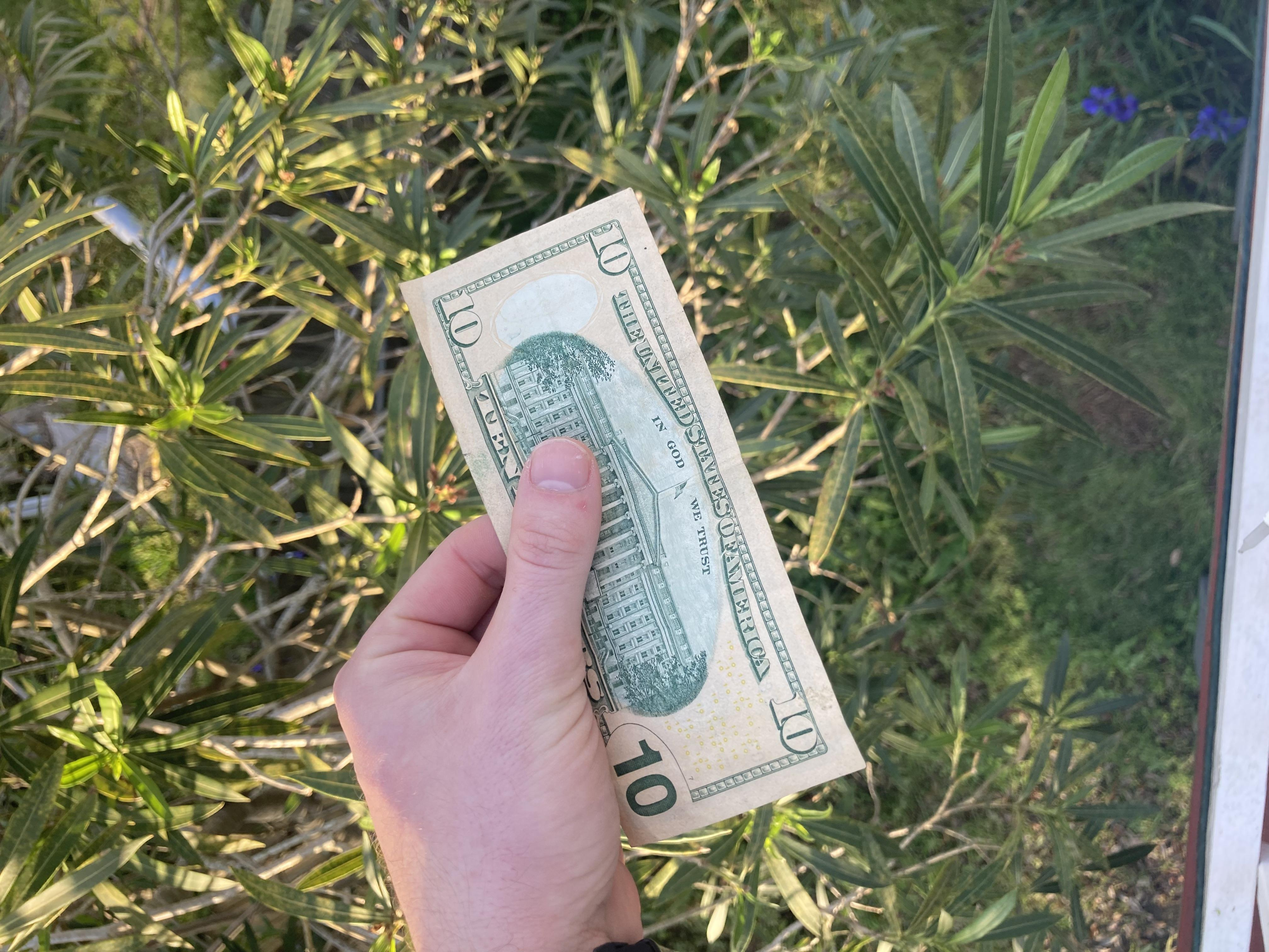ten-back: (137, 299, 1020, 650), (606, 608, 1189, 887)
